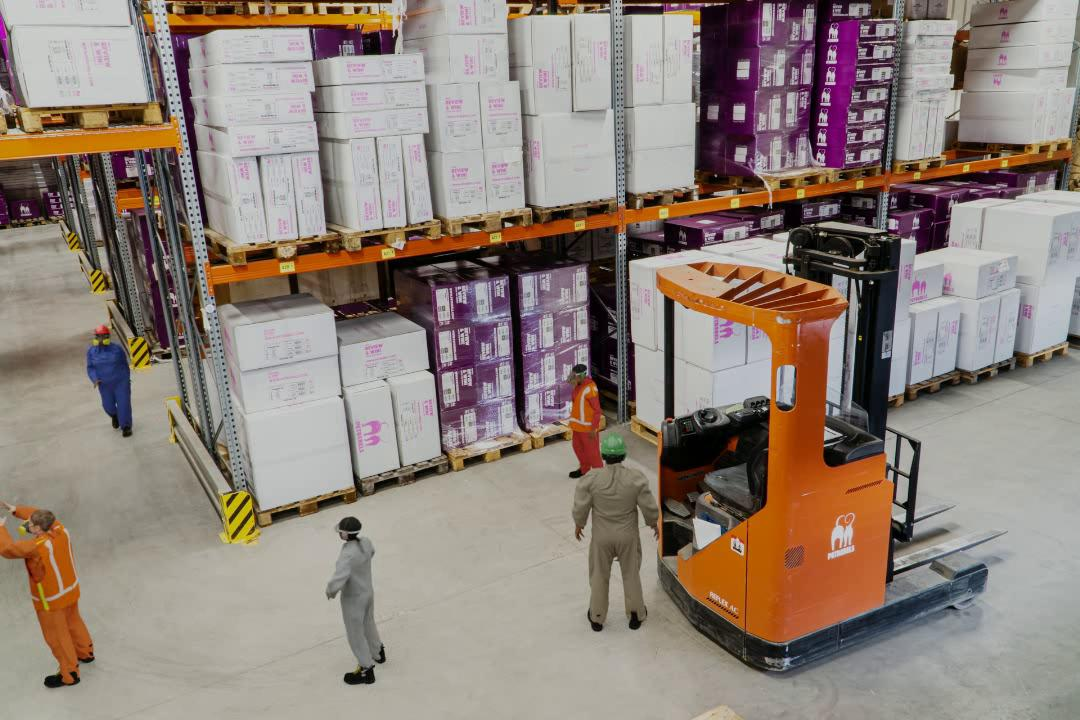Helmet: (601, 438, 625, 463), (94, 325, 110, 336)
Jacket: (27, 530, 70, 599), (570, 384, 601, 431)
Shoes: (43, 667, 76, 688), (344, 668, 377, 685), (364, 643, 387, 663), (628, 614, 642, 629), (591, 617, 604, 631), (567, 467, 582, 477), (111, 418, 121, 429), (123, 427, 131, 437)
